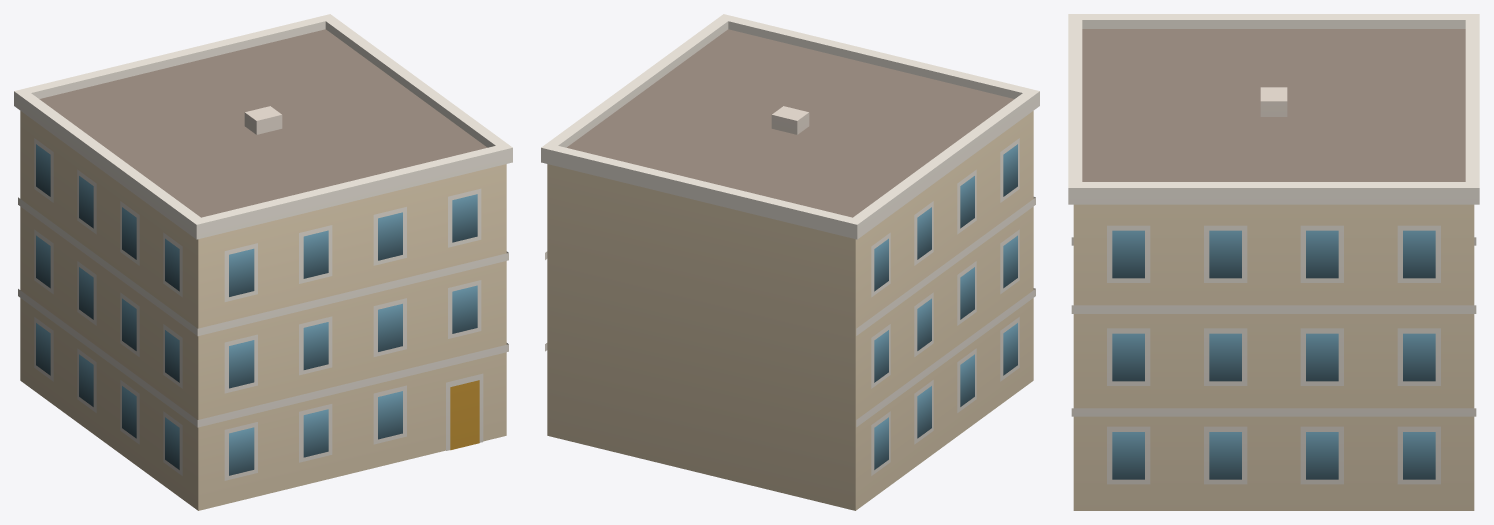
File: vee_rightbb1_far.glb
The picture shows the model from 3 angles, left to right: view 1: azimuth 30°, elevation 25°; view 2: azimuth 150°, elevation 25°; view 3: azimuth 270°, elevation 25°; orthographic projection. The views are drawn at different scales.
Parts seen in each view (by area): view 1: vee_rightbb1_far; view 2: vee_rightbb1_far; view 3: vee_rightbb1_far.
Part boxes in pixels (box(x1,y1,x2,y2)): vee_rightbb1_far: box(14, 14, 512, 510); vee_rightbb1_far: box(541, 14, 1039, 510); vee_rightbb1_far: box(1068, 14, 1479, 510).
Bounding box in the file's own units: 12.32 × 10.97 × 12.32.
Materials: 1 (1 with a texture image).
